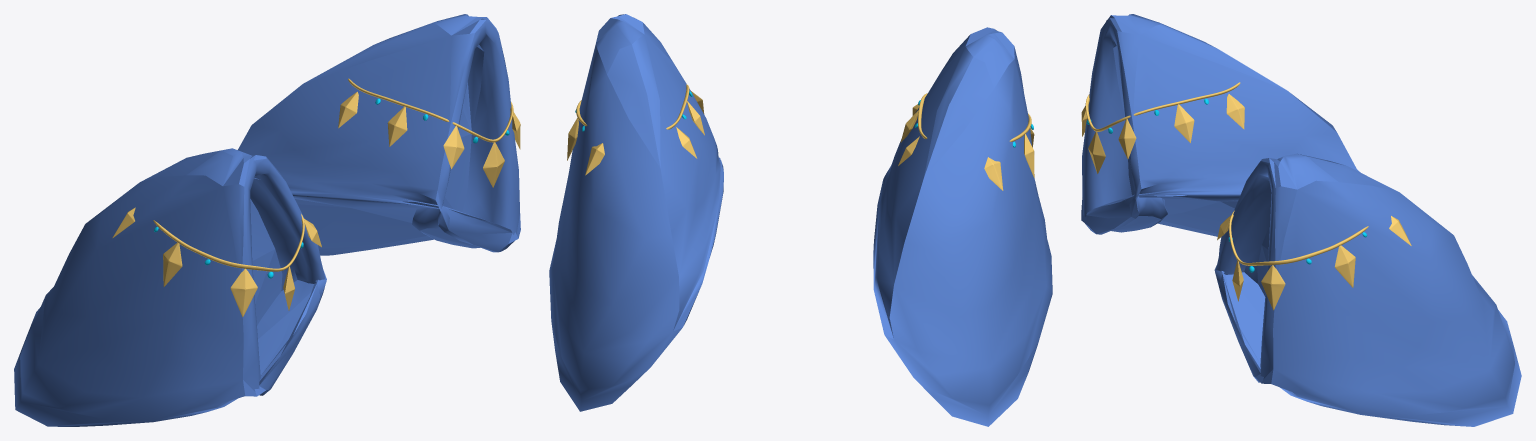
3 views of the same model, side by side, from view 1: azimuth 30°, elevation 25°; view 2: azimuth 150°, elevation 25°; view 3: azimuth 270°, elevation 25° (orthographic). The views are drawn at different scales.
Visible parts, largest first — view 1: ear_jewels, crystals_012.001, string.001; view 2: ear_jewels, crystals_012.001, string.001; view 3: ear_jewels, crystals_012.001, string.001.
Boxes of the visible parts, x1,y1,x2,y2 form: ear_jewels: [14, 14, 520, 426]; crystals_012.001: [112, 91, 520, 316]; string.001: [153, 78, 513, 271]; ear_jewels: [549, 14, 1052, 426]; crystals_012.001: [567, 91, 1034, 190]; string.001: [576, 84, 1031, 141]; ear_jewels: [1081, 14, 1521, 426]; crystals_012.001: [1081, 94, 1411, 310]; string.001: [1085, 82, 1368, 265].
Size of the model in its own units: 88.88 by 76.46 by 56.09.
